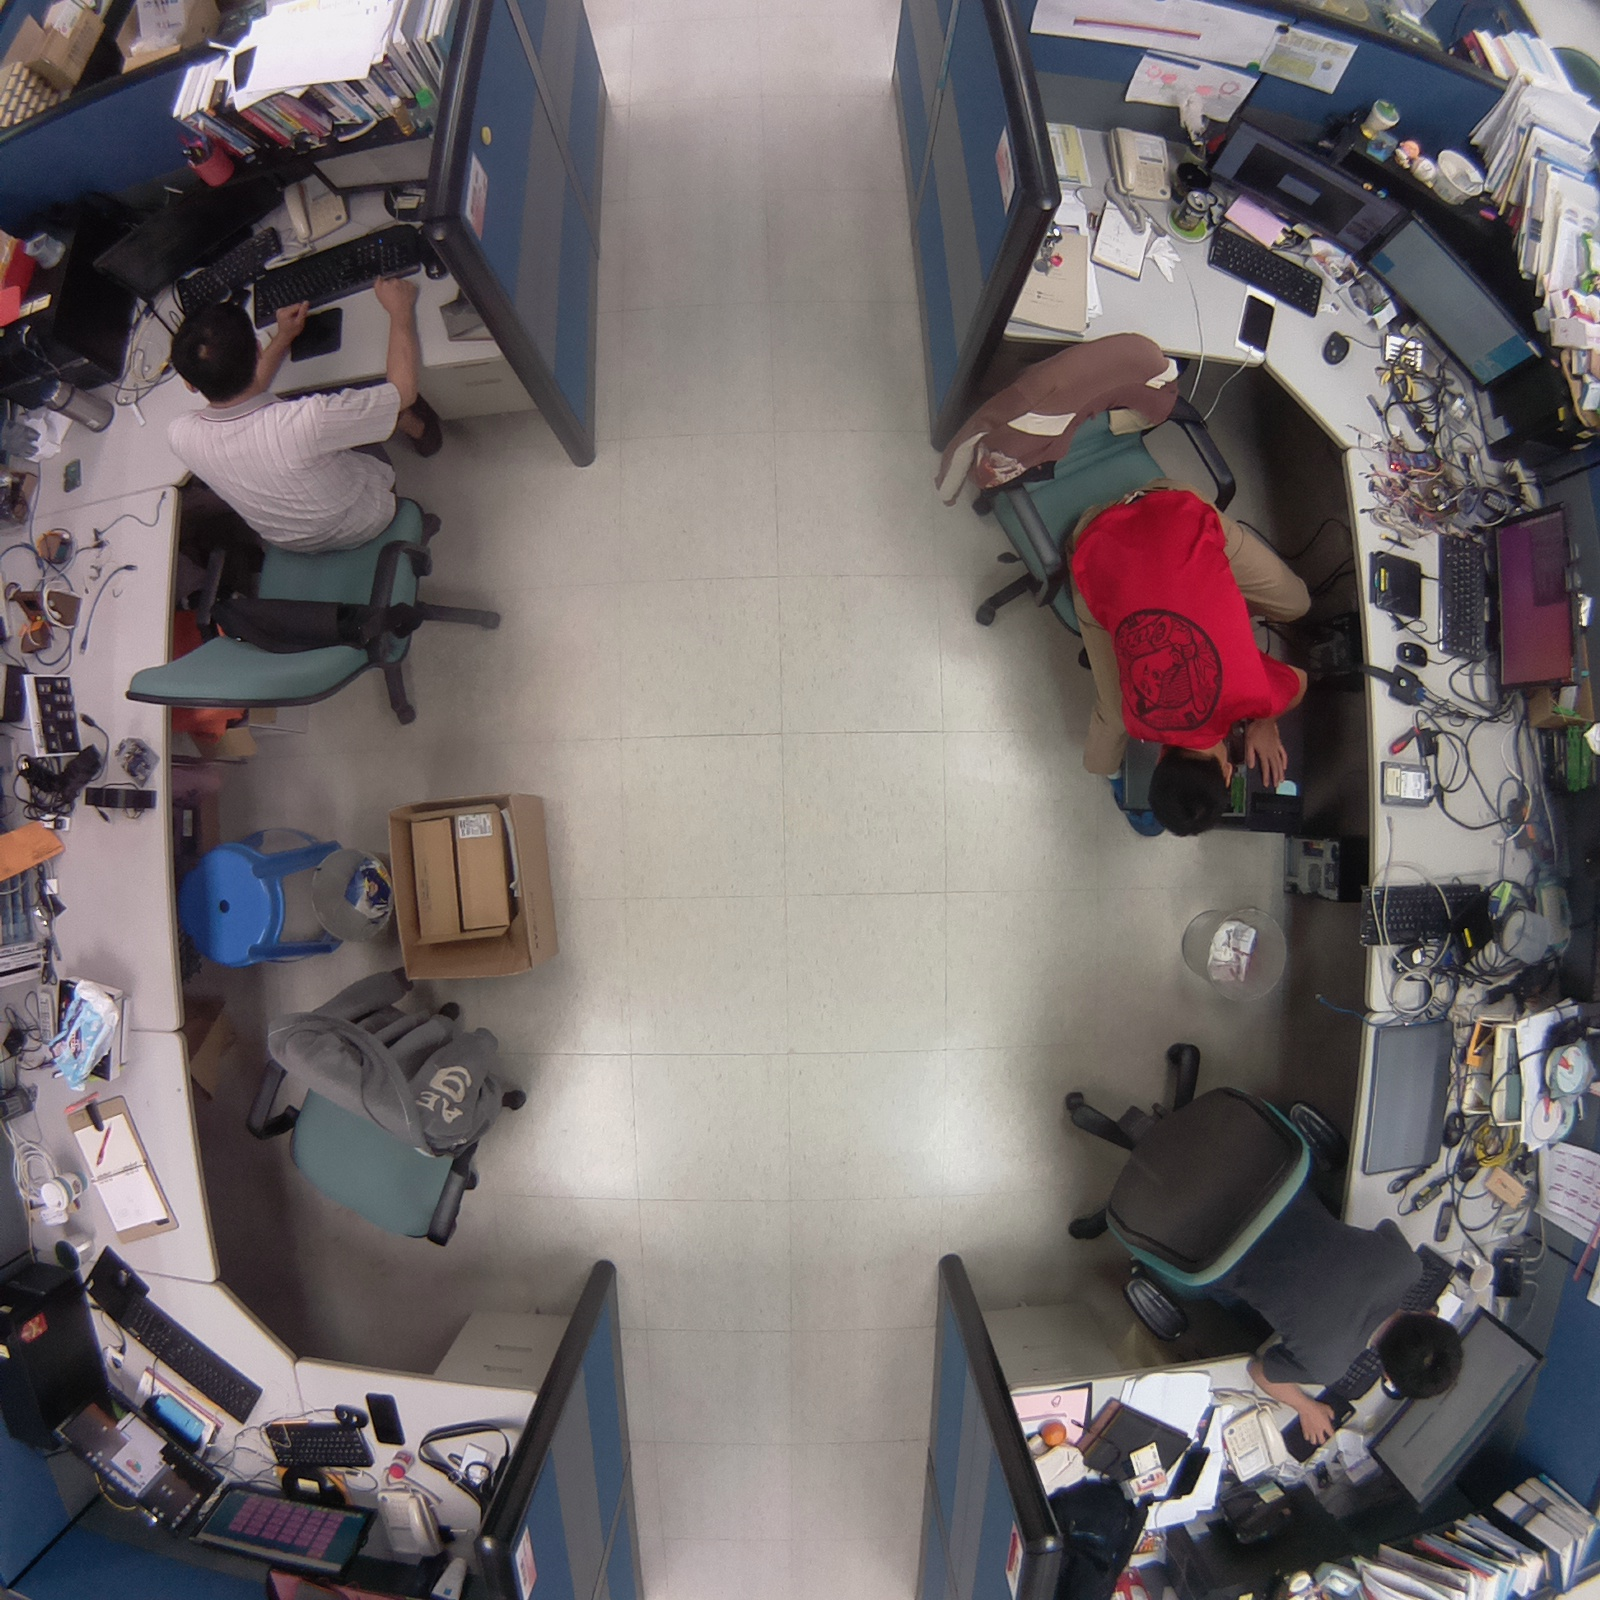chair: (227, 942, 547, 1268)
head: (166, 296, 276, 396), (1143, 741, 1243, 845), (1376, 1306, 1470, 1406)
sitting: (924, 317, 1322, 849), (112, 278, 535, 752), (1035, 1024, 1473, 1454)
